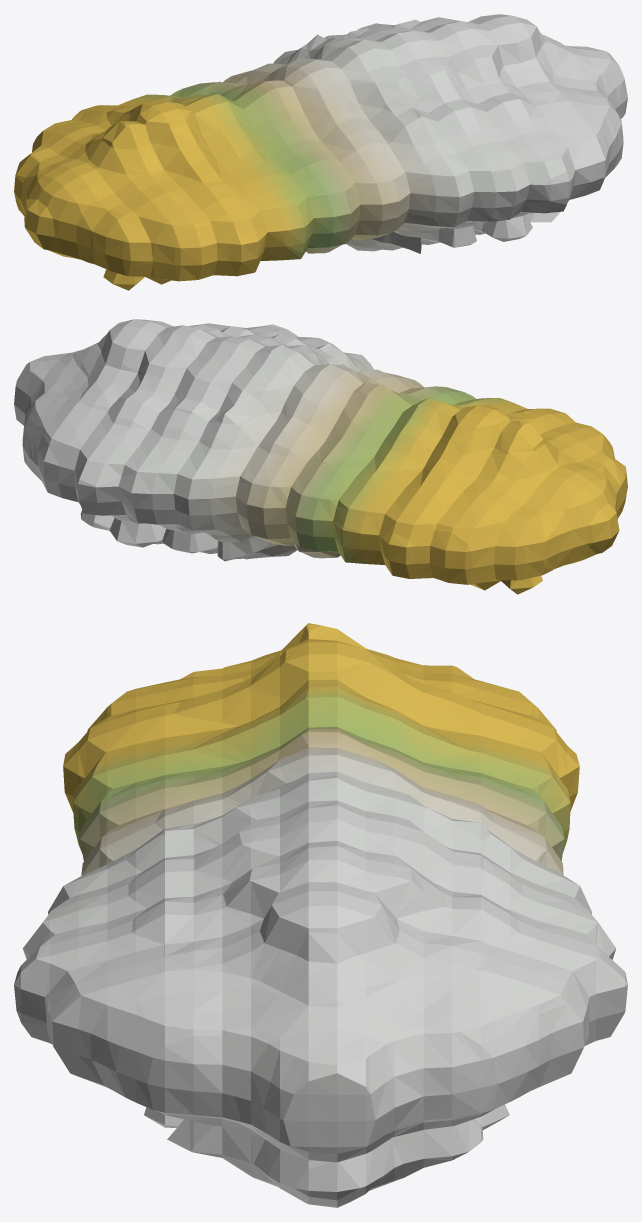
3 views of the same model, one above another, from view 1: azimuth 30°, elevation 25°; view 2: azimuth 150°, elevation 25°; view 3: azimuth 270°, elevation 25° (orthographic). The views are drawn at different scales.
Parts seen in each view (by area): view 1: geometry_0; view 2: geometry_0; view 3: geometry_0.
Boxes of the visible parts, <box> form: geometry_0: <box>14,14,627,290</box>; geometry_0: <box>14,319,627,594</box>; geometry_0: <box>14,623,627,1207</box>.
Size of the model in its own units: 1.53 by 0.5254 by 0.9088.
